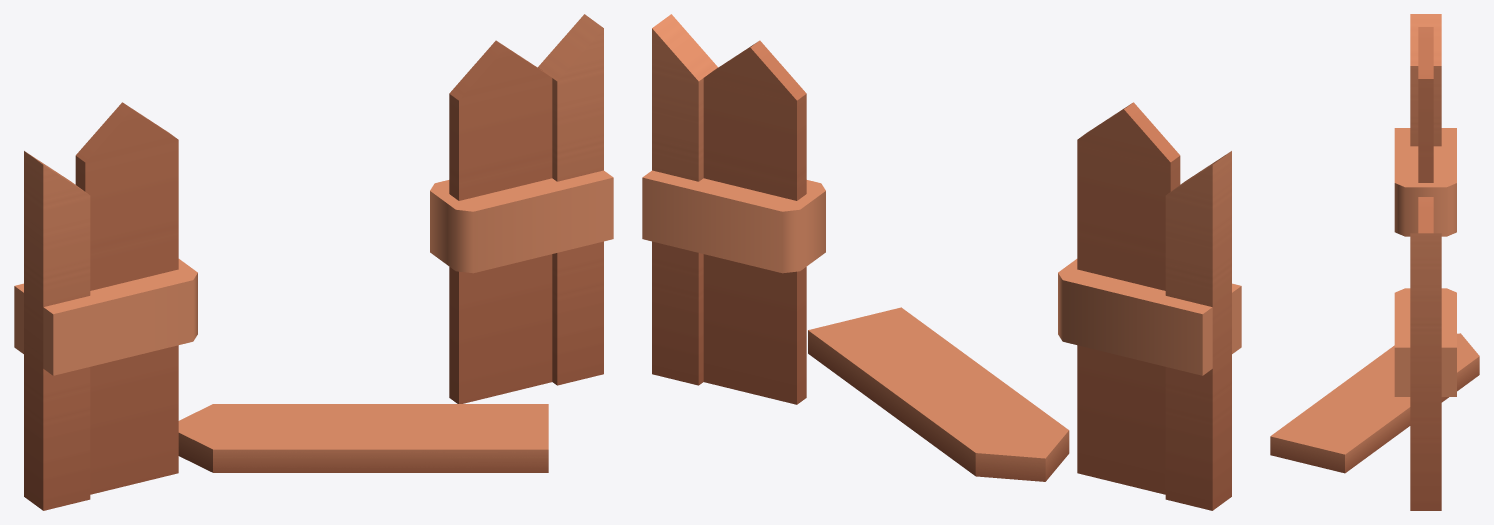
The model's file is fence-damaged.glb.
3 renders of one model, left to right at view 1: azimuth 30°, elevation 25°; view 2: azimuth 150°, elevation 25°; view 3: azimuth 270°, elevation 25°, orthographic. The views are drawn at different scales.
Visible parts, largest first — view 1: Asset3DLoader.sceneRoot; view 2: Asset3DLoader.sceneRoot; view 3: Asset3DLoader.sceneRoot.
Part boxes in pixels (x1,y1,x2,y2): Asset3DLoader.sceneRoot: (14, 14, 613, 510); Asset3DLoader.sceneRoot: (642, 14, 1241, 510); Asset3DLoader.sceneRoot: (1270, 14, 1479, 510).
Size of the model in its own units: 1 by 0.64 by 0.4036.
Materials: 1 (1 with a texture image).
